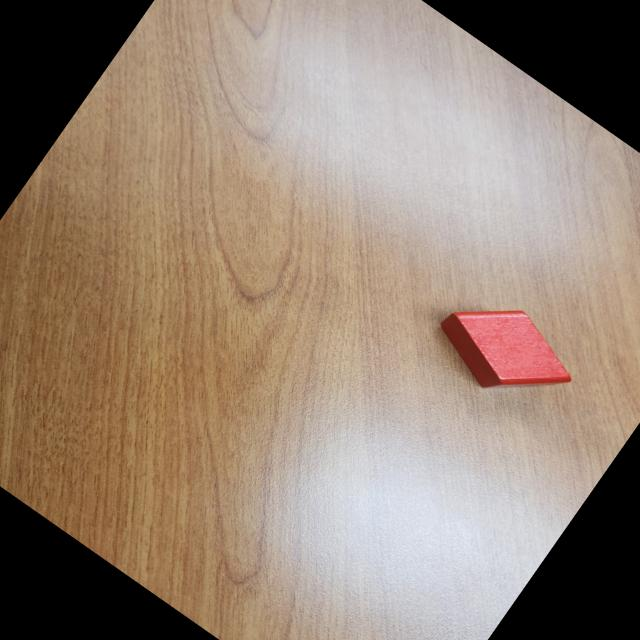red: (424, 276, 590, 429)
